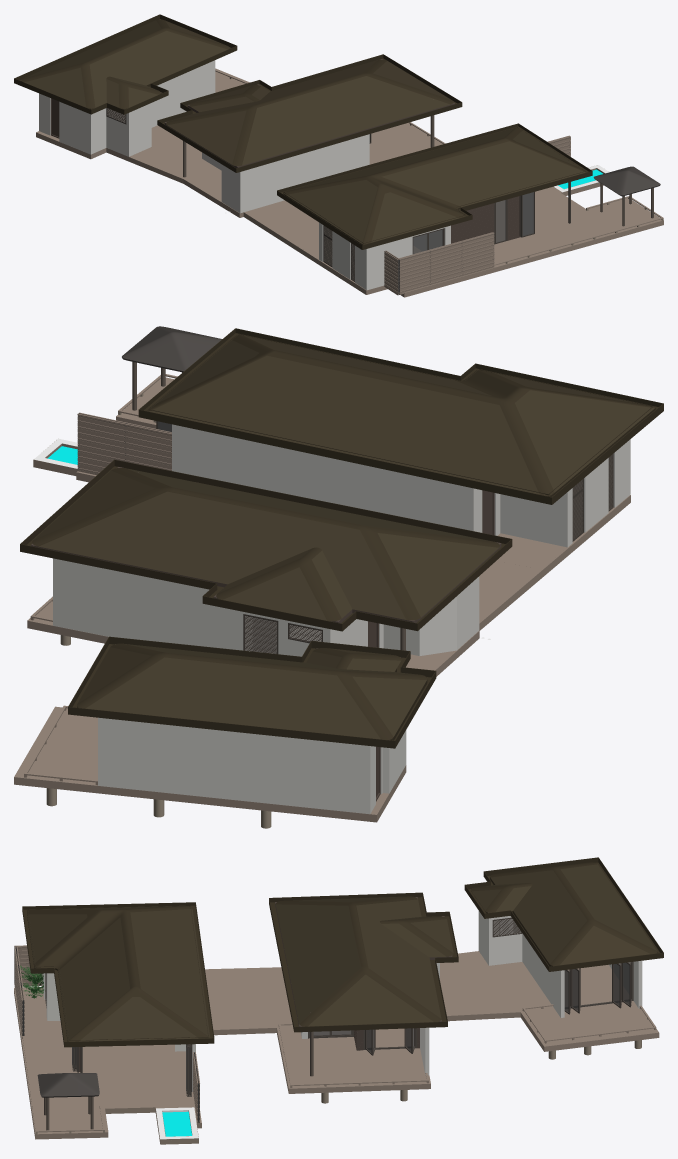
The picture shows the model from 3 angles, top to bottom: view 1: azimuth 30°, elevation 25°; view 2: azimuth 150°, elevation 25°; view 3: azimuth 270°, elevation 25°; orthographic projection. The views are drawn at different scales.
Visible parts, largest first — view 1: Model, Component_121_1, Component_15_1, Group58, Mesh582, Component_90_1, Mesh545, Component_16_1, Component_17_1, Component_13_1, Mesh233, Mesh217 (+1 smaller); view 2: Model, Component_15_1, Group58, Mesh545, Component_90_1, Mesh582, Component_121_1, Component_16_1, Component_13_1, Component_17_1, Group17; view 3: Component_121_1, Model, Component_15_1, Group58, Component_16_1, Mesh545, Component_13_1, Component_17_1, Group17, Component_90_1, Mesh582, Mesh588 (+2 smaller).
Part boxes in pixels (x1=…): Model: x1=14, y1=14, x2=660, y2=281; Component_121_1: x1=36, y1=68, x2=663, y2=297; Component_15_1: x1=166, y1=59, x2=453, y2=166; Group58: x1=21, y1=19, x2=229, y2=109; Mesh582: x1=202, y1=134, x2=369, y2=213; Component_90_1: x1=319, y1=196, x2=520, y2=290; Mesh545: x1=39, y1=60, x2=215, y2=154; Component_16_1: x1=157, y1=54, x2=462, y2=172; Component_17_1: x1=106, y1=76, x2=160, y2=108; Component_13_1: x1=189, y1=85, x2=269, y2=112; Mesh233: x1=494, y1=196, x2=663, y2=265; Mesh217: x1=522, y1=192, x2=533, y2=235; Model: x1=31, y1=326, x2=663, y2=801; Component_15_1: x1=32, y1=468, x2=499, y2=620; Group58: x1=77, y1=643, x2=427, y2=740; Mesh545: x1=98, y1=717, x2=406, y2=814; Component_90_1: x1=172, y1=424, x2=630, y2=547; Mesh582: x1=53, y1=558, x2=479, y2=656; Component_121_1: x1=14, y1=377, x2=630, y2=822; Component_16_1: x1=20, y1=459, x2=512, y2=631; Component_13_1: x1=216, y1=547, x2=352, y2=621; Component_17_1: x1=306, y1=648, x2=401, y2=671; Group17: x1=34, y1=438, x2=77, y2=468; Component_121_1: x1=14, y1=951, x2=659, y2=1144; Model: x1=22, y1=857, x2=663, y2=1130; Component_15_1: x1=275, y1=896, x2=441, y2=1026; Group58: x1=490, y1=862, x2=657, y2=966; Component_16_1: x1=269, y1=892, x2=458, y2=1032; Mesh545: x1=513, y1=921, x2=642, y2=1017; Component_13_1: x1=380, y1=916, x2=453, y2=957; Component_17_1: x1=471, y1=883, x2=532, y2=912; Group17: x1=156, y1=1107, x2=198, y2=1139; Component_90_1: x1=42, y1=973, x2=195, y2=1091; Mesh582: x1=301, y1=963, x2=439, y2=1075; Mesh588: x1=278, y1=1023, x2=428, y2=1085.
Bounding box in the file's own units: 27176 × 6174 × 33676.
